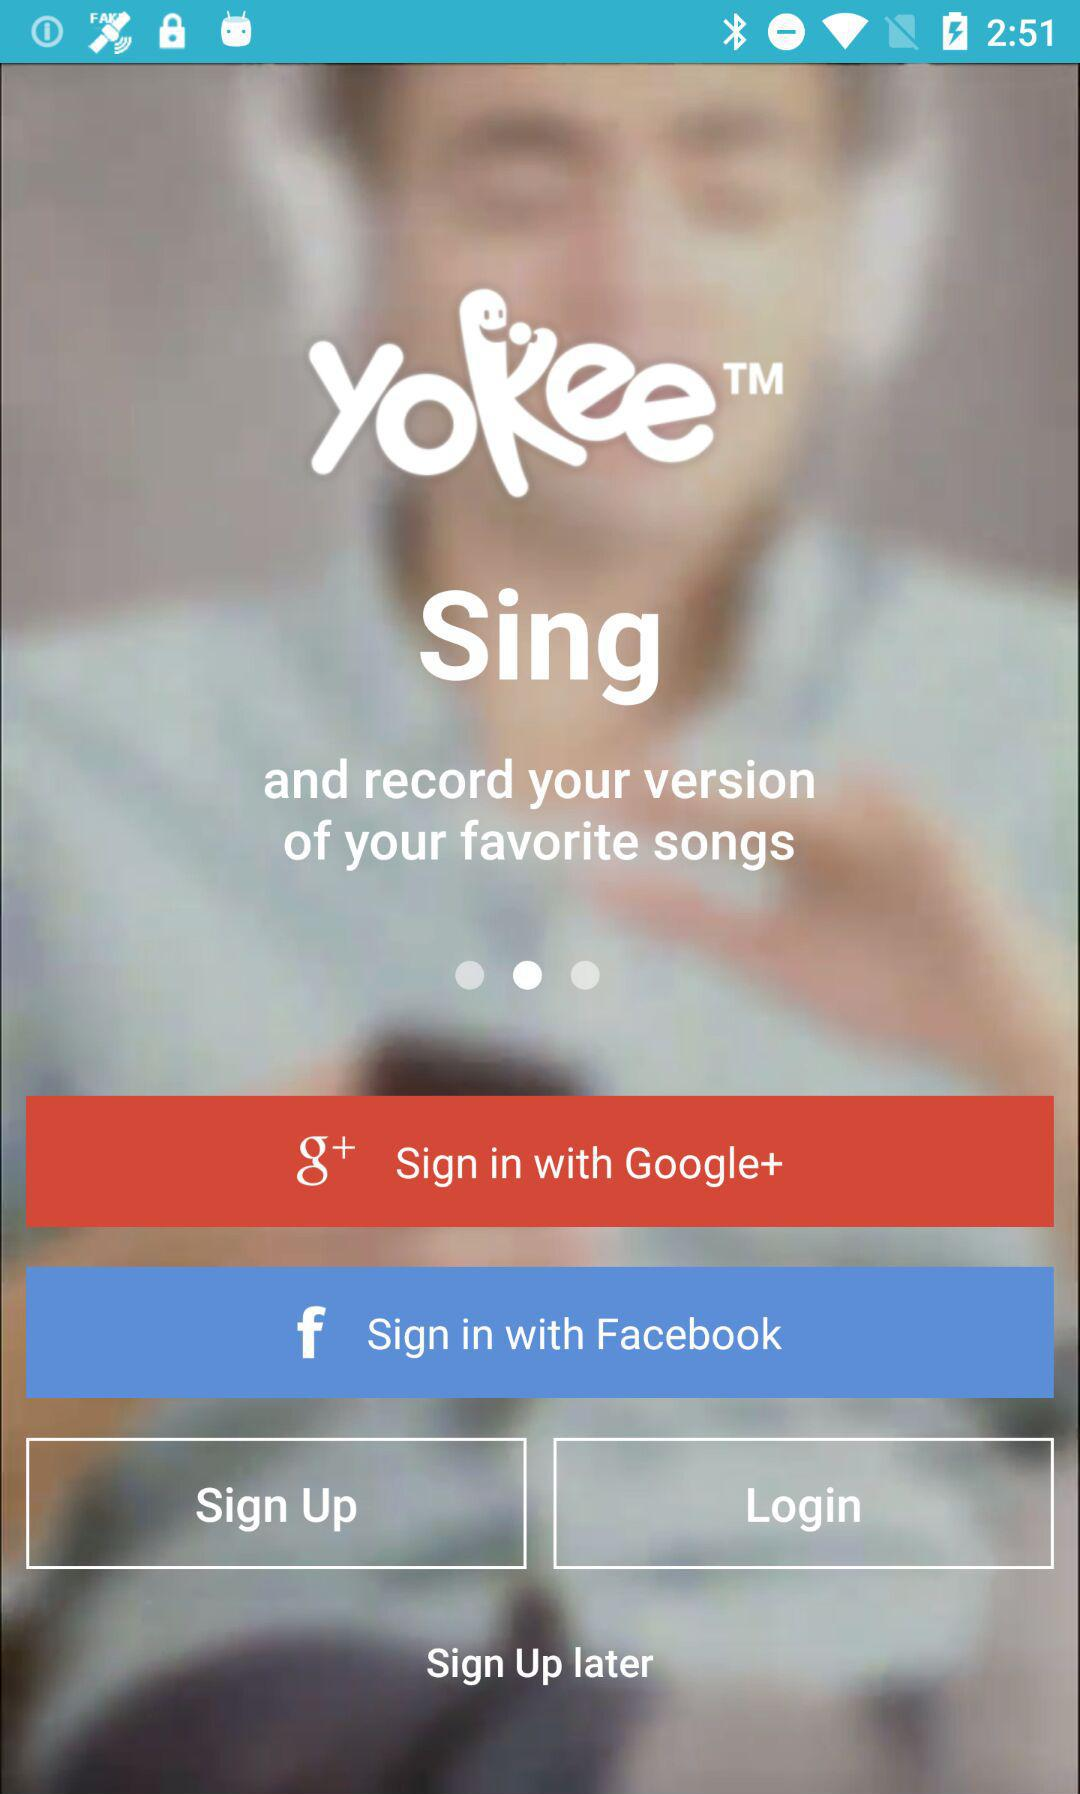BackgroundImage: (1, 64, 1079, 1794)
Image: (306, 288, 785, 500)
PageIndicator: (454, 959, 603, 993)
Text: (264, 757, 815, 873), (419, 586, 661, 709), (427, 1645, 655, 1688)
TextButton: (26, 1096, 1054, 1228), (27, 1267, 1054, 1399), (26, 1436, 528, 1570), (552, 1438, 1054, 1570)
UpperTaskBar: (1, 1, 1080, 64)
